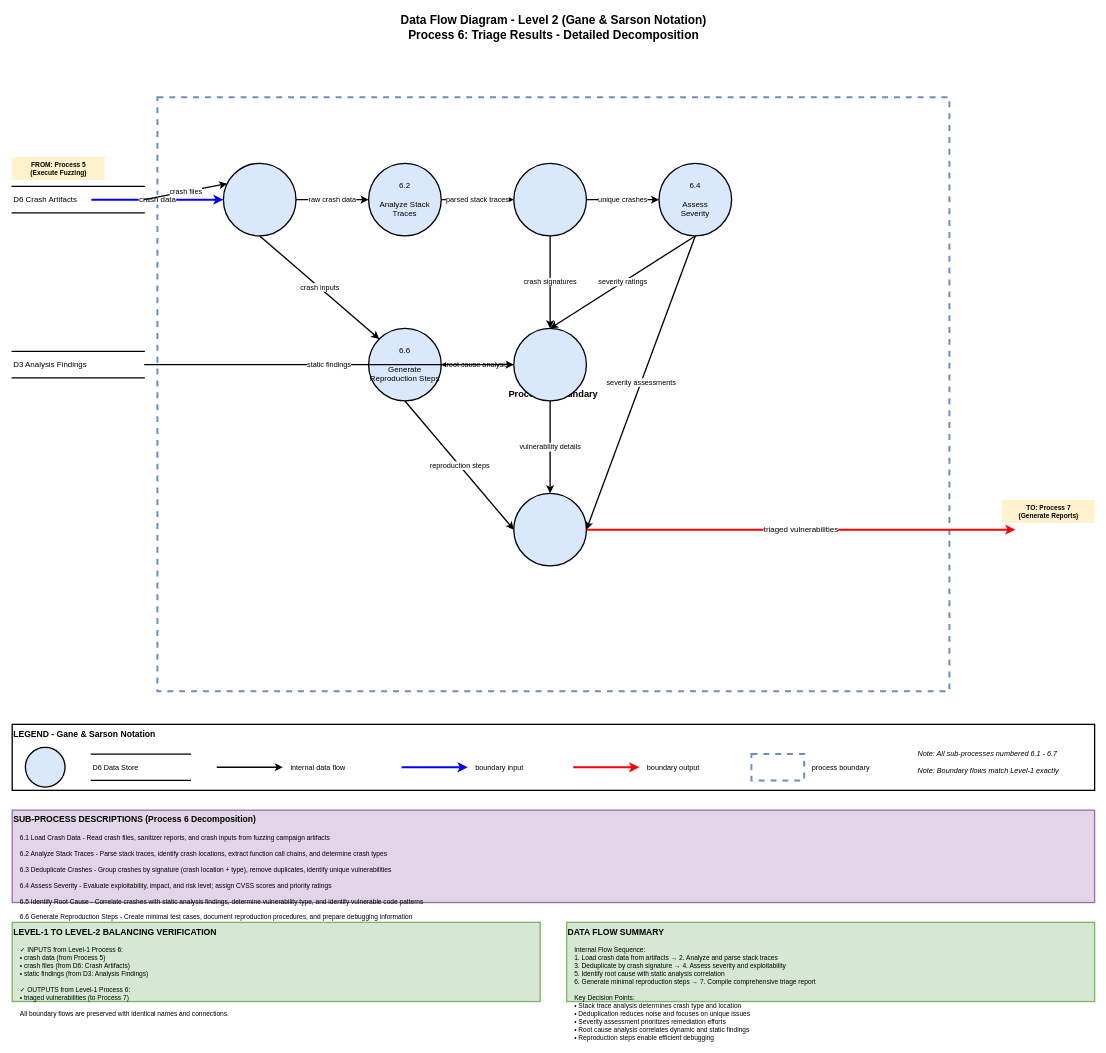
The diagram is 1106 pixels wide and 1053 high, and some of its shapes have lost their labels. The shapes that lost their labels are listed below. From the top down, each one's centre as x and y in pixels, then its label:
At [259,199]: "6.1 Load Crash Data".
At [550,199]: "6.3 Deduplicate Crashes".
At [550,364]: "6.5 Identify Root Cause".
At [550,529]: "6.7 Compile Triage Report".
At [44,766]: "6.1 Sub-Process".
